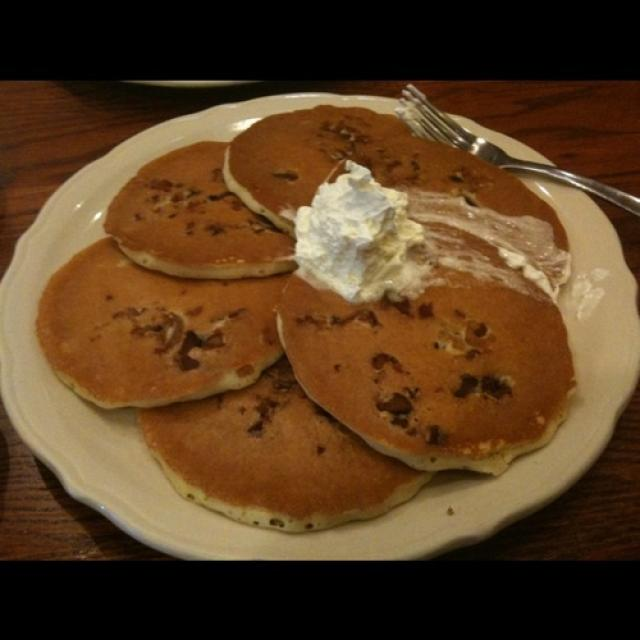蛋糕甜品: (32, 67, 609, 554)
